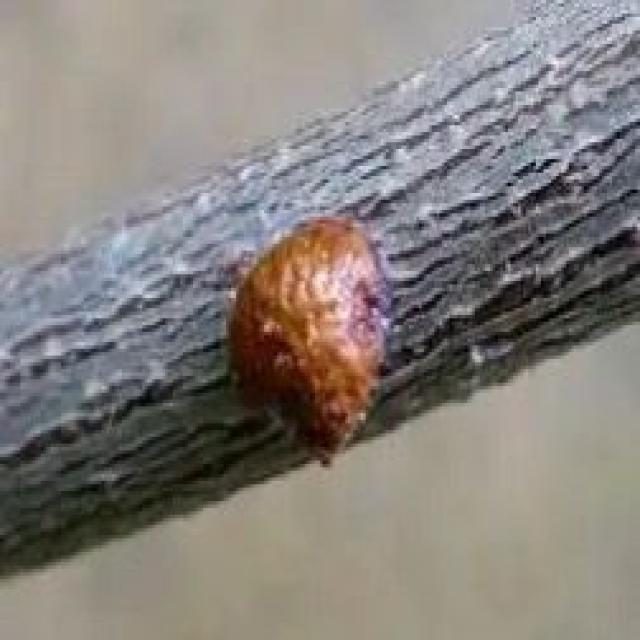BlackScale: (229, 217, 386, 464)
